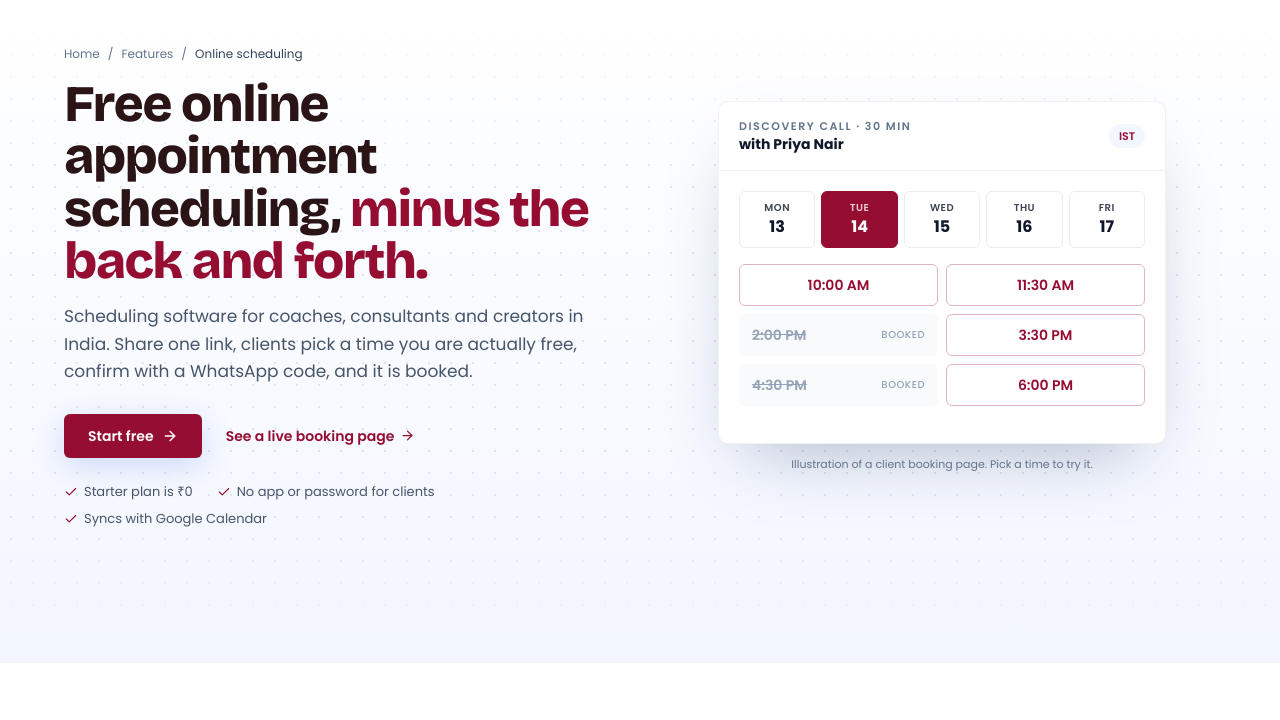
Scheduling feature page › confirms a booking when a free slot is picked, and booked slots are disabled
Expected: the button with aria-label "2:00 PM, booked" is disabled, x1=739 y1=314 x2=938 y2=356
Click the button "11:30 AM" at (1046, 286), box x1=946 y1=264 x2=1145 y2=306
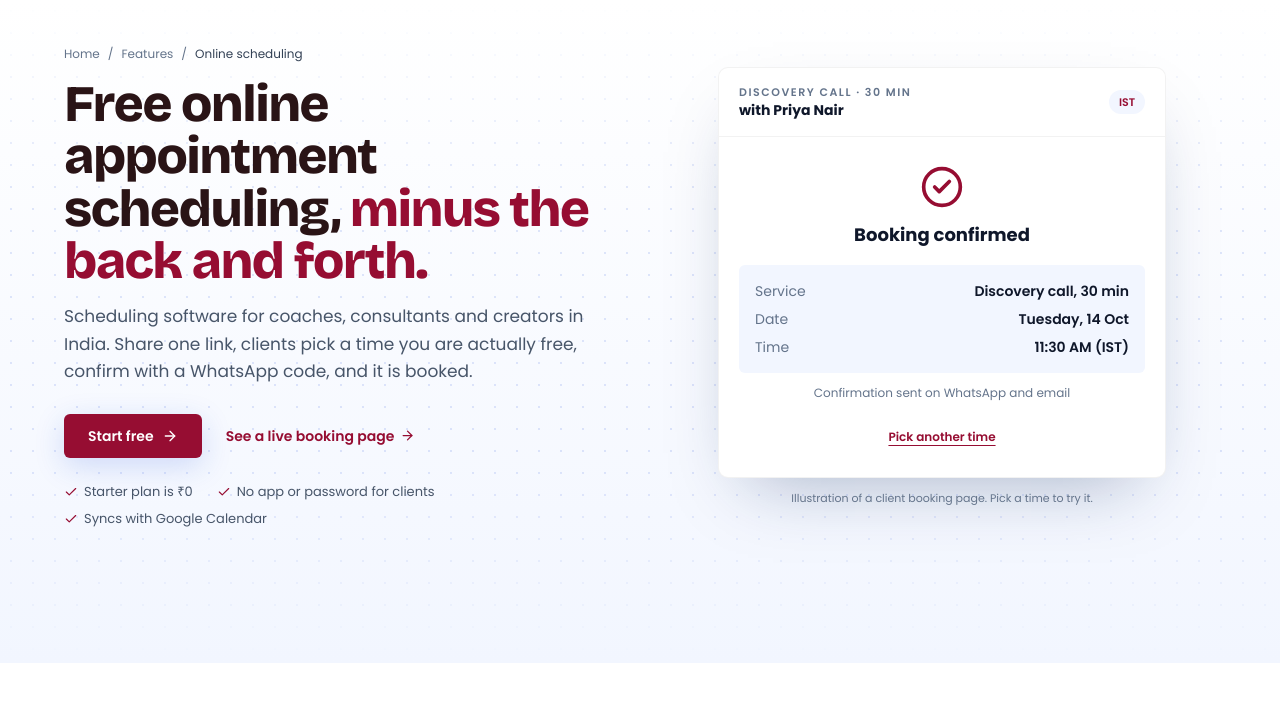
Expected: the text "Booking confirmed" is shown, x1=854 y1=222 x2=1030 y2=250
Expected: the text "11:30 AM (IST)" is shown, x1=1034 y1=338 x2=1129 y2=358
